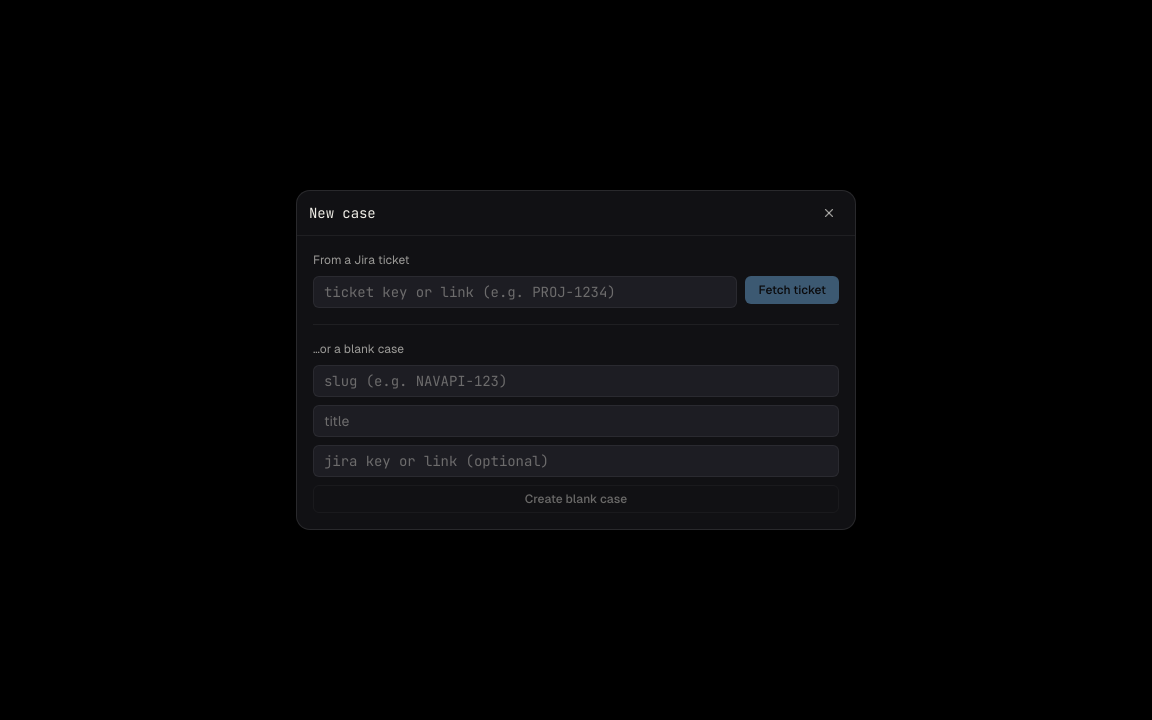
it: NewCaseDialog › not-configured errors point at the Connectors page; blank path stays available
This screenshot has width=1152, height=720.
Type "PROJ-7" into the field with placeholder "ticket key or link (e.g. PROJ-1234)".
click(525, 292); type("PROJ-7")  # box [313,276,737,308]
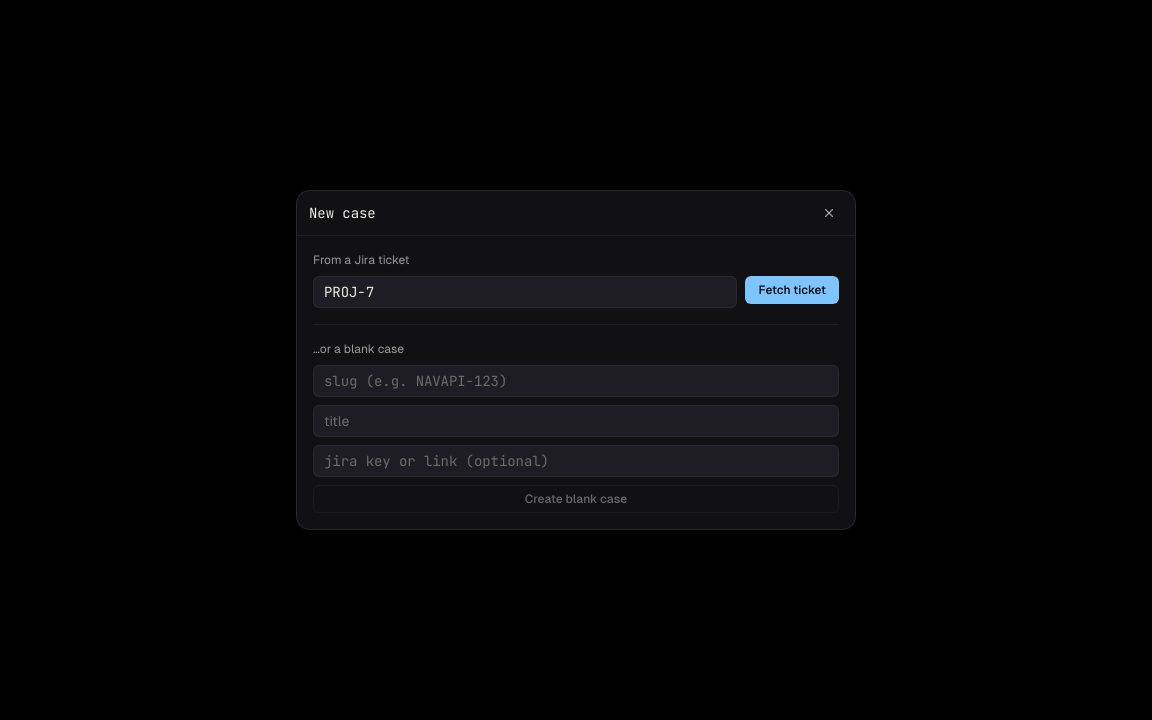
Click the button "Fetch ticket".
click(792, 290)  # box [745,276,839,304]
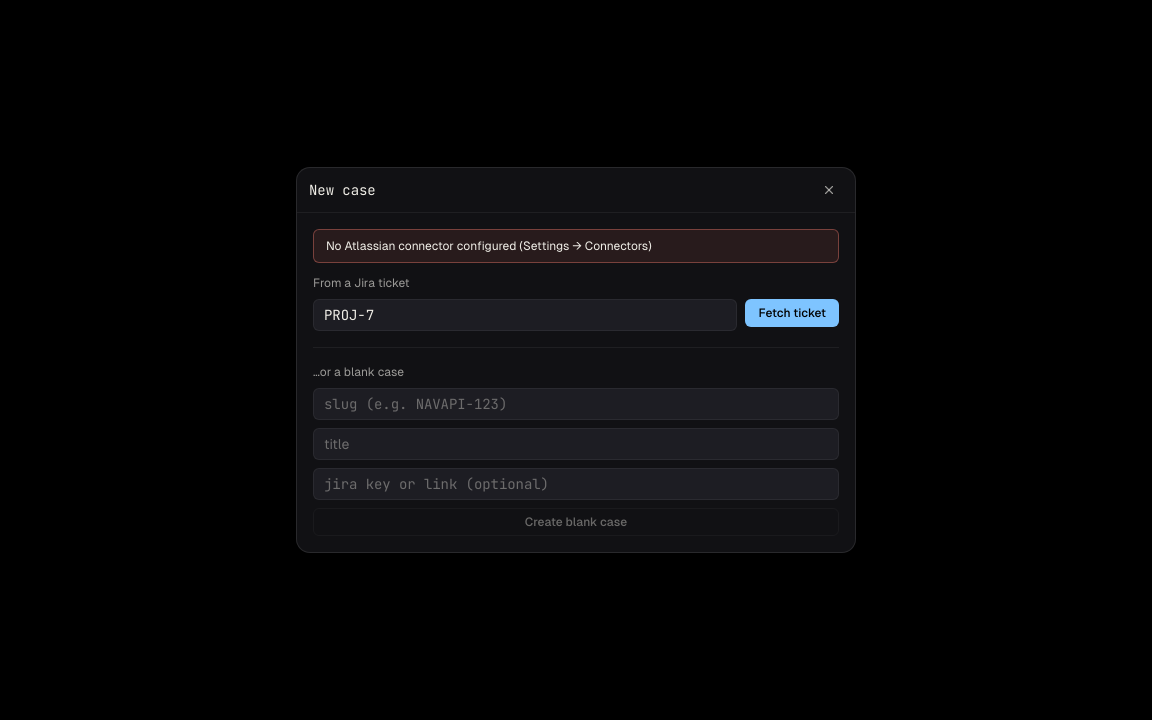
Expected: the button "Create blank case" is shown, [313,508,839,536]
Now the message shows "Settings → Connectors", box [326,239,652,253]
